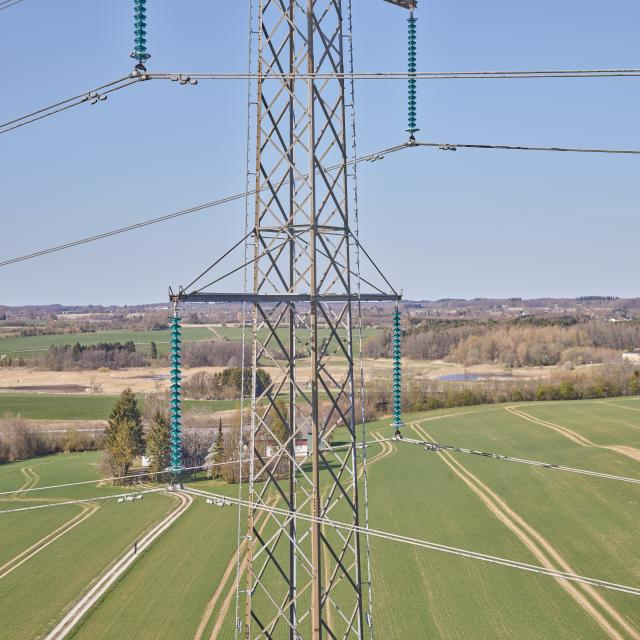杆塔: (244, 1, 374, 640)
正常电缆: (174, 483, 640, 598), (0, 140, 412, 270), (414, 436, 640, 486), (417, 141, 640, 156)
正常绝缘子: (164, 312, 193, 470), (402, 14, 433, 140), (390, 306, 410, 438), (131, 0, 156, 68)
